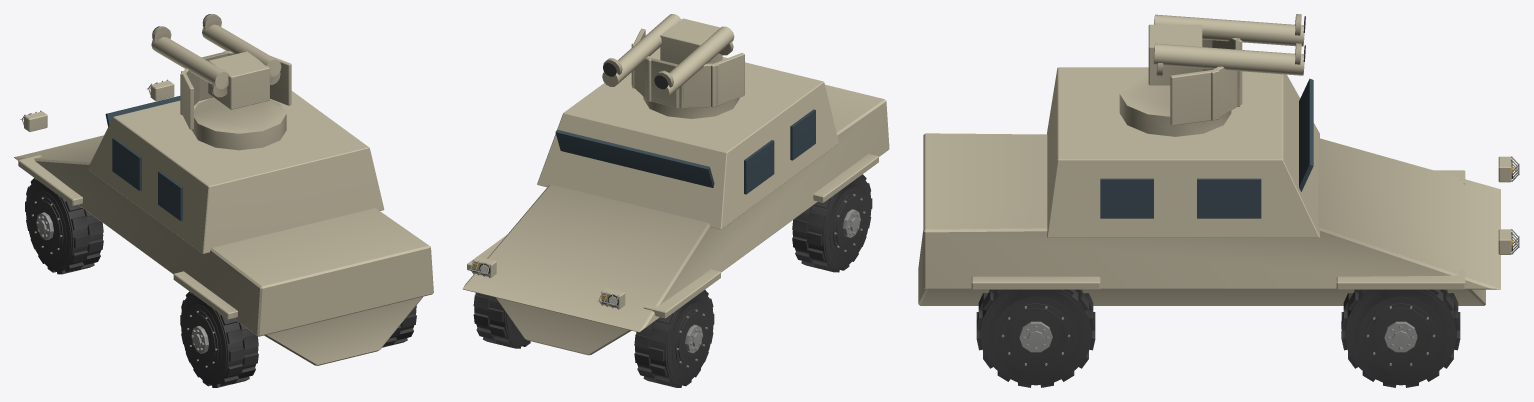
Rendered from rus_td_kornet.glb.
The picture shows the model from 3 angles, left to right: view 1: azimuth 30°, elevation 25°; view 2: azimuth 150°, elevation 25°; view 3: azimuth 270°, elevation 25°; orthographic projection. The views are drawn at different scales.
Parts seen in each view (by area): view 1: body, turret, barrel, wheel_0, wheel_2, wheel_3; view 2: body, barrel, wheel_0, wheel_2, turret, wheel_1; view 3: body, wheel_1, wheel_3, barrel, turret.
Part boxes in pixels (x1,y1,x2,y2): body: (14,79,433,365); turret: (180,50,291,150); barrel: (151,14,281,109); wheel_0: (25,178,103,274); wheel_2: (180,291,258,387); wheel_3: (382,305,416,347); body: (462,47,889,355); barrel: (602,14,734,99); wheel_0: (634,290,714,387); wheel_2: (792,174,872,272); turret: (631,28,744,118); wheel_1: (473,292,530,348); body: (918,67,1519,305); wheel_1: (1341,289,1460,387); wheel_3: (976,289,1095,387); barrel: (1148,14,1305,85); turret: (1119,38,1242,136).
Bounding box in the file's own units: 2.58 × 3.14 × 5.6.
